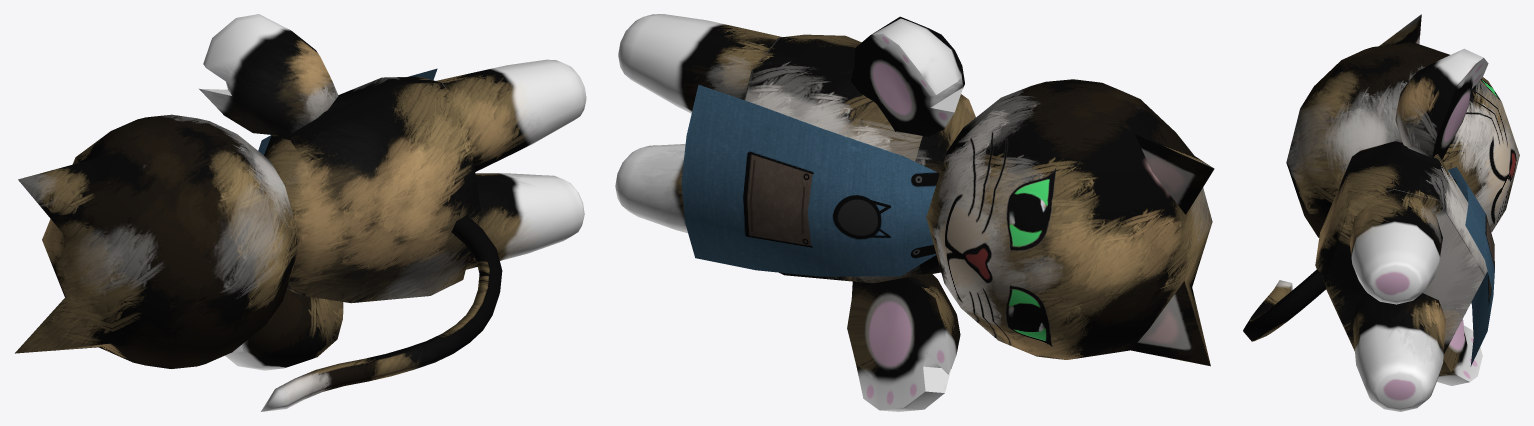
File: bobblehead.fbx
3 views of the same model, side by side, from view 1: azimuth 30°, elevation 25°; view 2: azimuth 150°, elevation 25°; view 3: azimuth 270°, elevation 25° (orthographic). The views are drawn at different scales.
Visible parts, largest first — view 1: body, head; view 2: head, body, apron; view 3: body, head, apron.
Boxes of the visible parts, x1,y1,x2,y2 form: body: (199,14,586,411); head: (15,114,300,368); head: (926,79,1214,366); body: (615,14,975,411); apron: (681,84,939,276); body: (1243,48,1488,411); head: (1286,14,1519,237); apron: (1448,167,1494,366).
Size of the model in its own units: 232 by 112 by 145.
